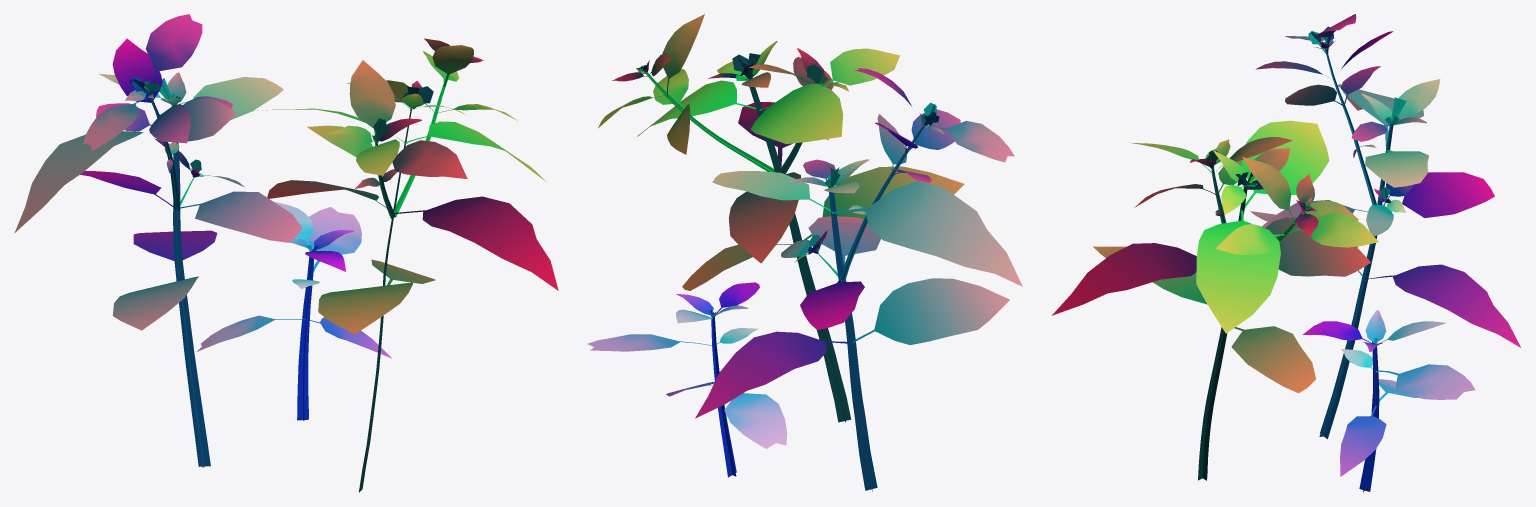
File: Common_Hemp_Nettle_xh1kdfbqx_Mid_xh1kdfbqx_VarD_LOD0.fbx
3 views of the same model, side by side, from view 1: azimuth 30°, elevation 25°; view 2: azimuth 150°, elevation 25°; view 3: azimuth 270°, elevation 25° (orthographic). The views are drawn at different scales.
Visible parts, largest first — view 1: _kty6_VarD_LOD1; view 2: _kty6_VarD_LOD1; view 3: _kty6_VarD_LOD1.
Boxes of the visible parts, box(x1,y1,x2,y2) form: _kty6_VarD_LOD1: box(14, 14, 558, 492); _kty6_VarD_LOD1: box(587, 14, 1022, 491); _kty6_VarD_LOD1: box(1052, 14, 1520, 492).
Size of the model in its own units: 101 by 91.67 by 94.1.
